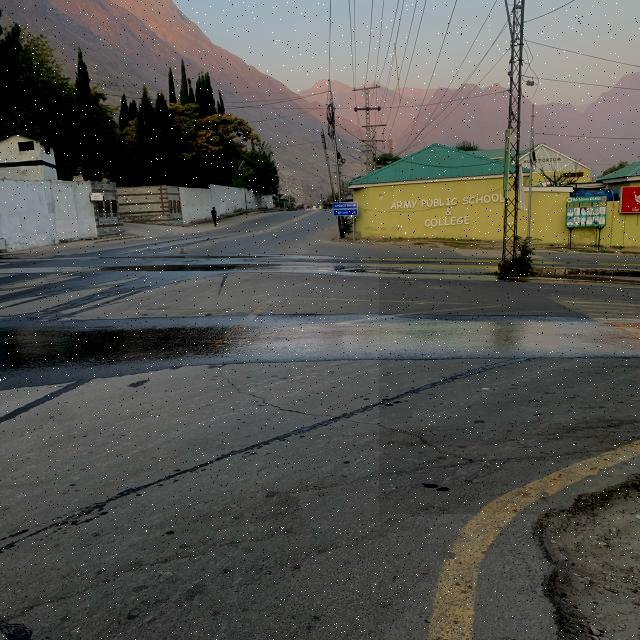right: (379, 258, 640, 514)
